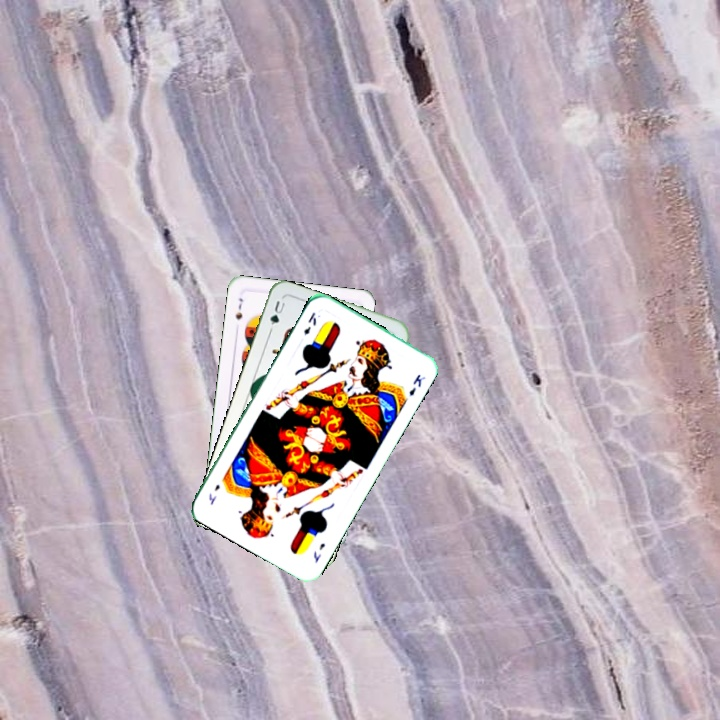EK: (300, 309, 319, 338), (309, 539, 328, 565)
GU: (266, 297, 288, 327)
S7: (231, 294, 246, 322)
